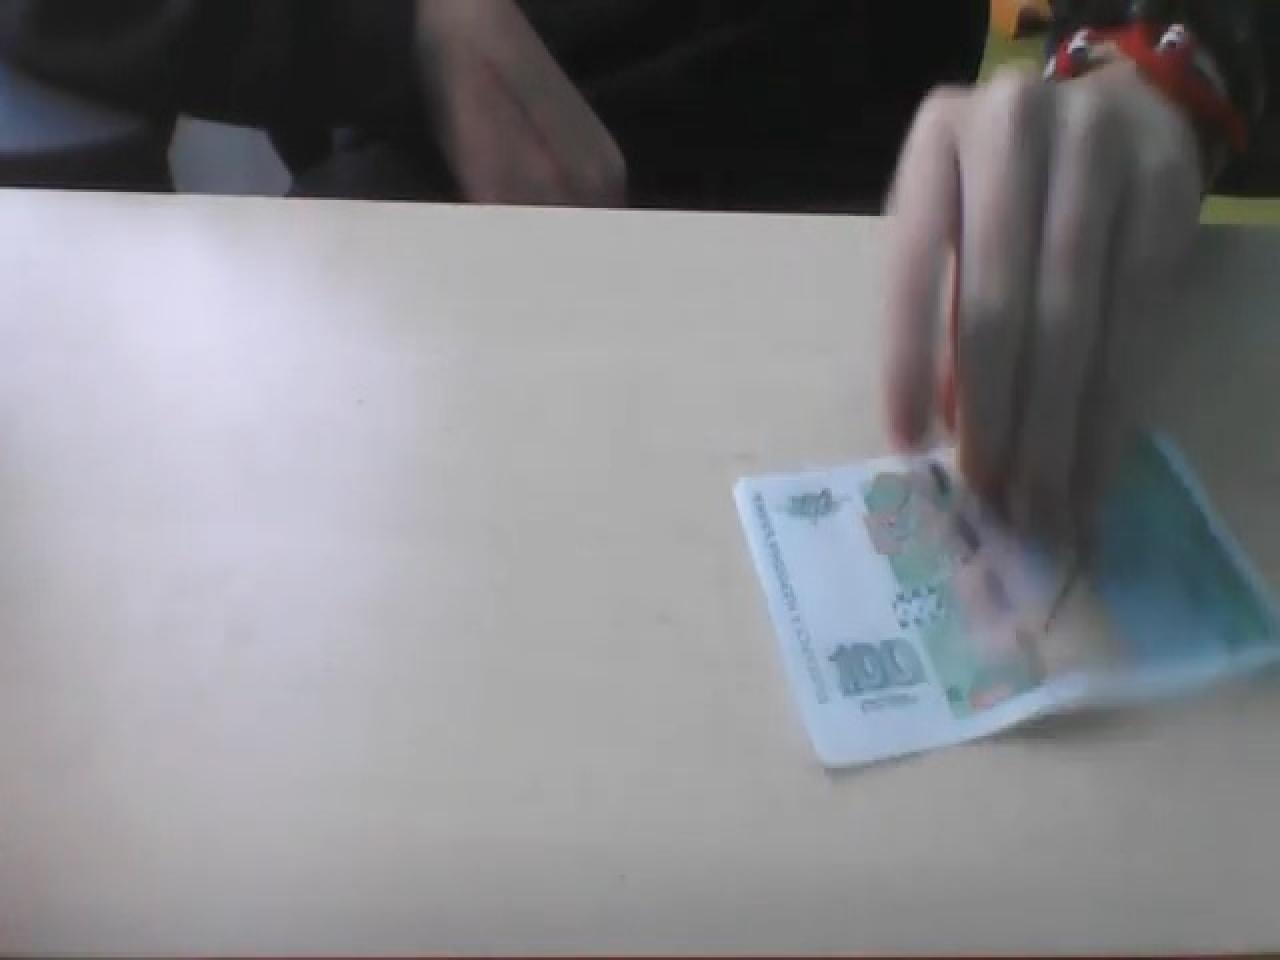100leva: (730, 456, 1280, 776)
